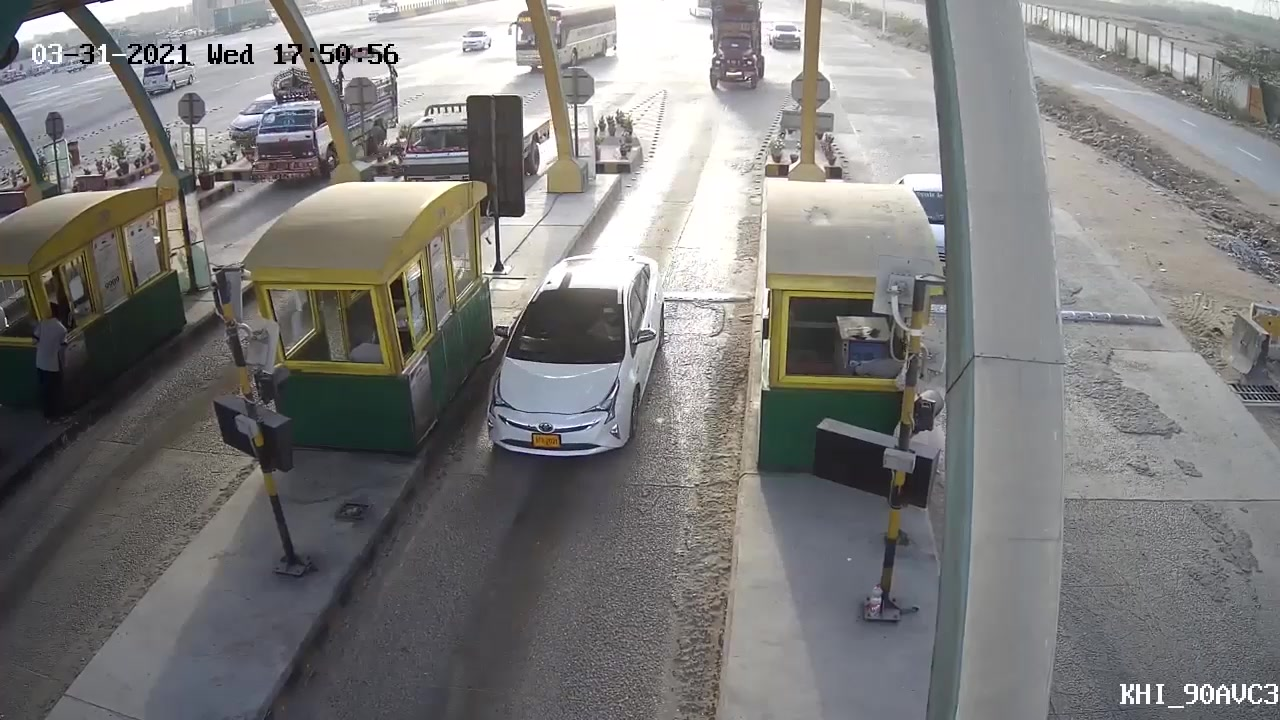F1: (469, 253, 664, 498)
